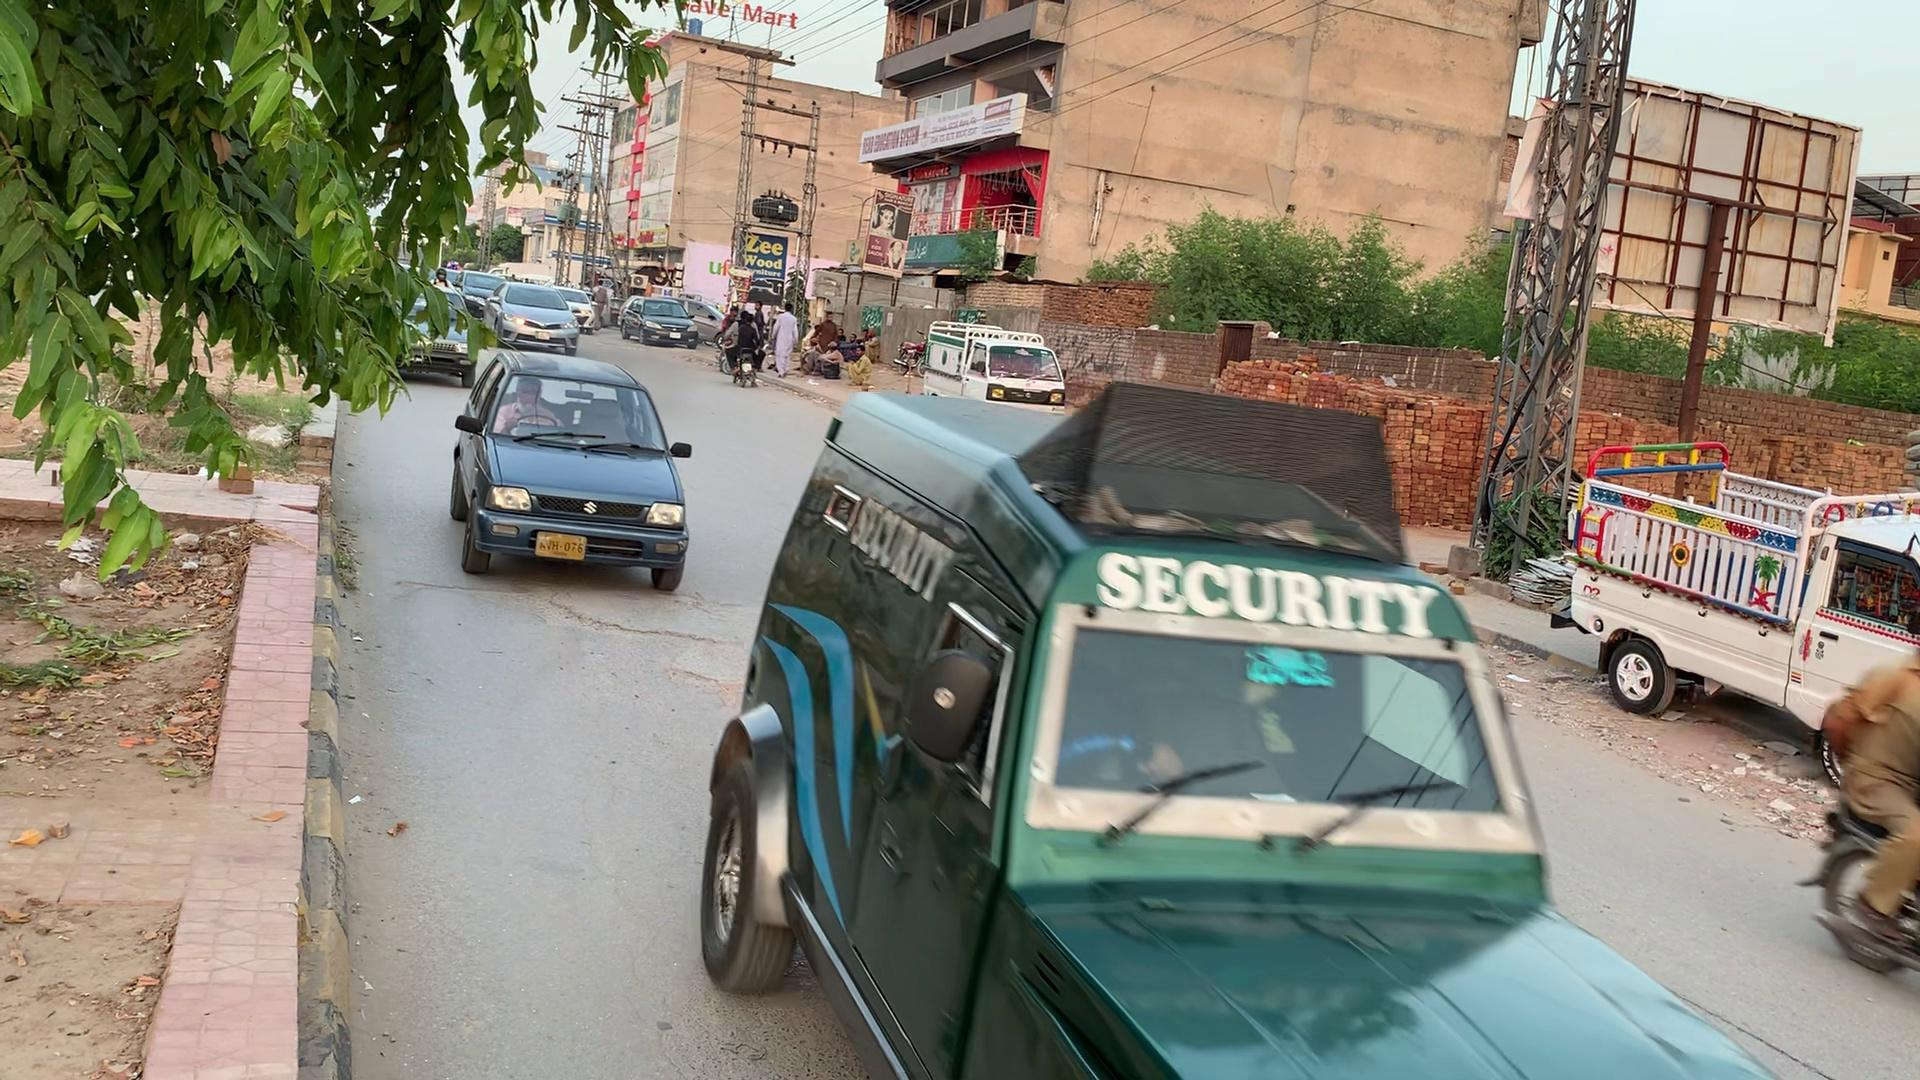windshield: (1034, 583, 1538, 899)
